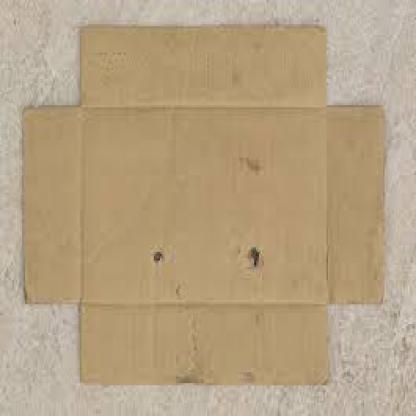CARDBOARD: (19, 22, 384, 385)
